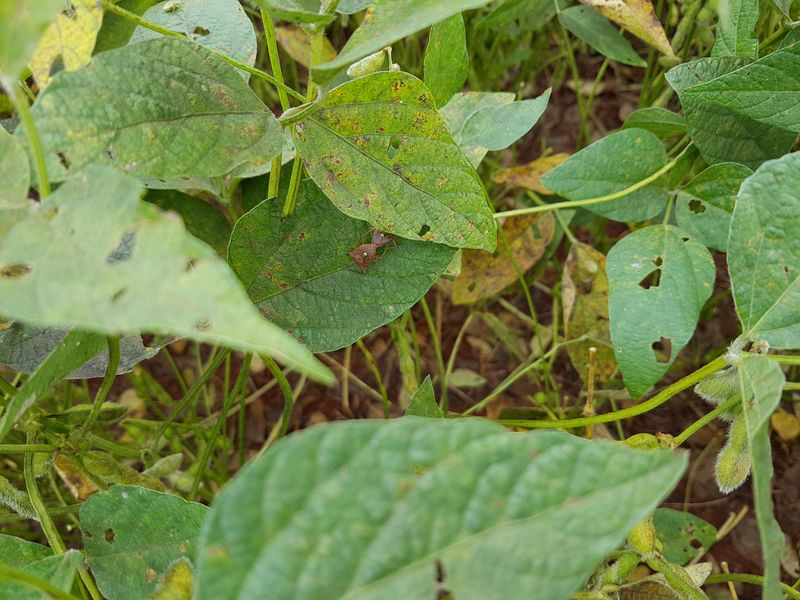Euschistus_heros_adulto: (338, 244, 376, 279), (370, 216, 404, 247)
